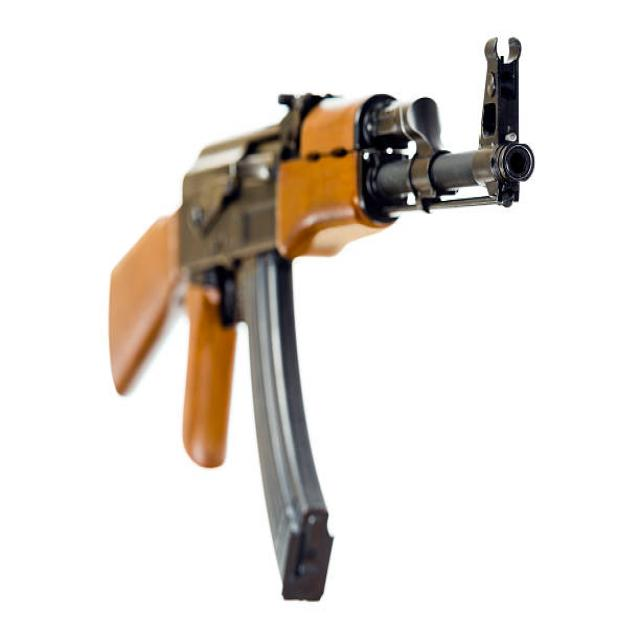rifle: (87, 31, 548, 622)
